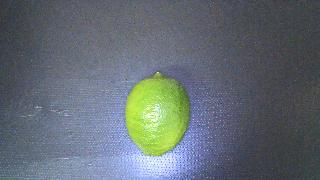EXPORTACION: (125, 72, 190, 156)
